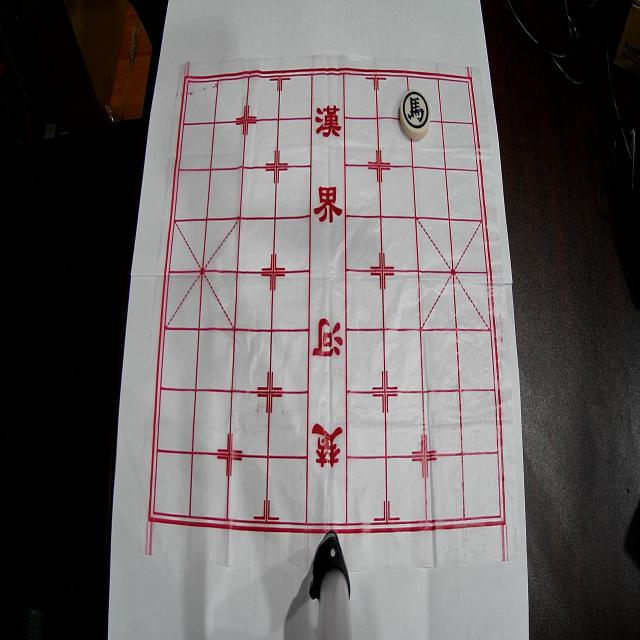black-horse: (400, 89, 430, 140)
